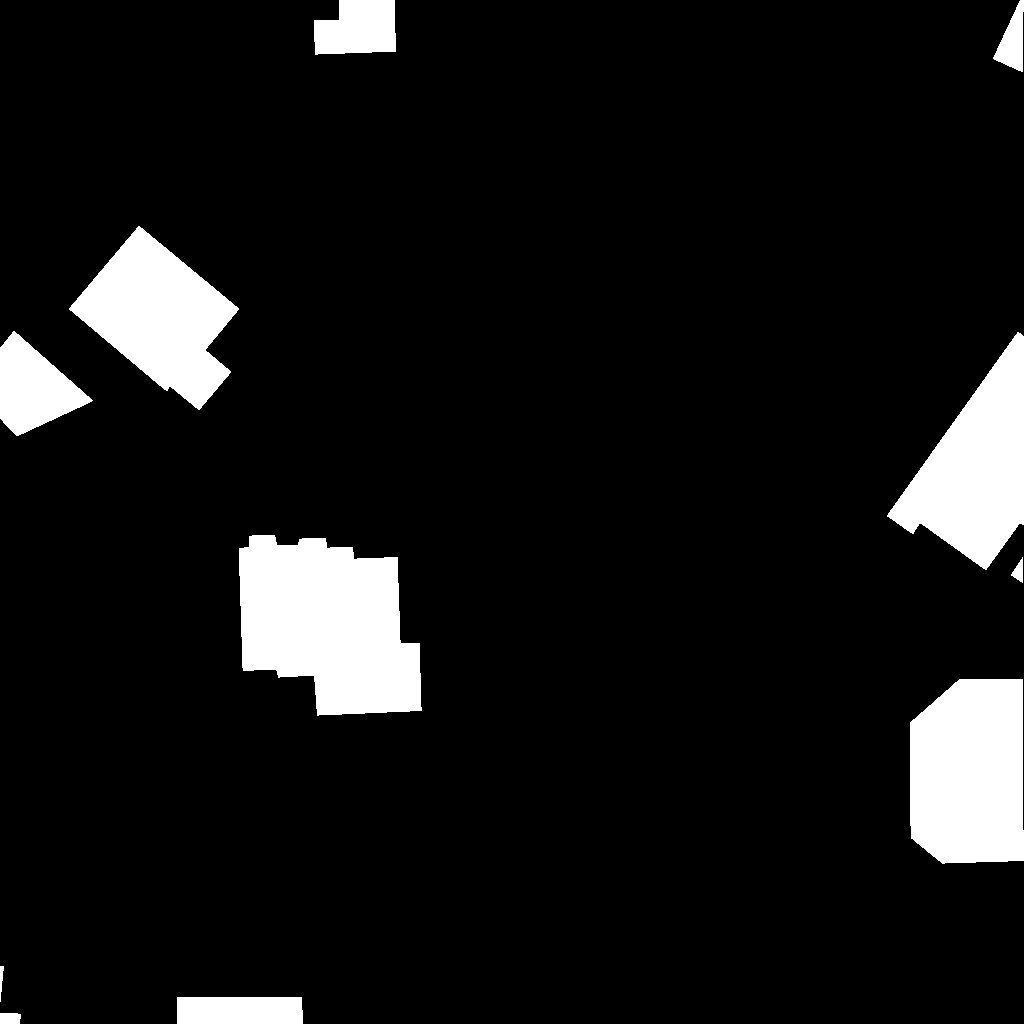building: (887, 332, 1024, 584), (239, 535, 422, 716), (69, 226, 240, 411), (910, 679, 1024, 864), (0, 331, 94, 437), (314, 0, 397, 55), (177, 997, 304, 1024), (993, 0, 1024, 73), (0, 966, 22, 1024)
